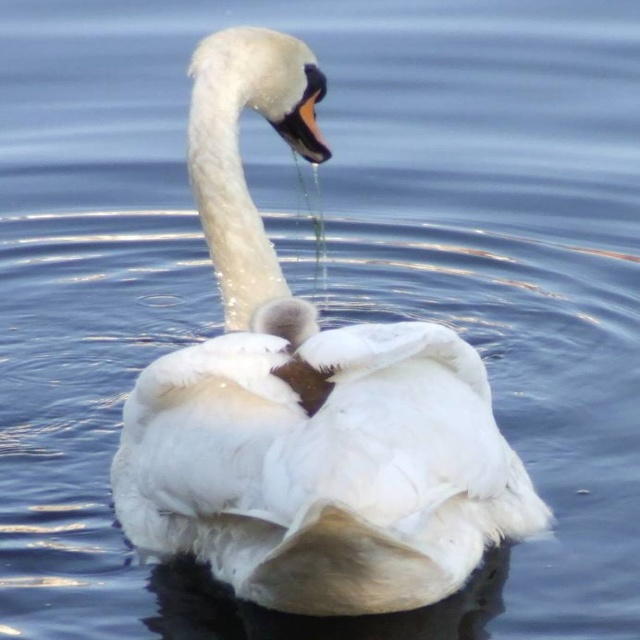Duck: (101, 24, 564, 631)
